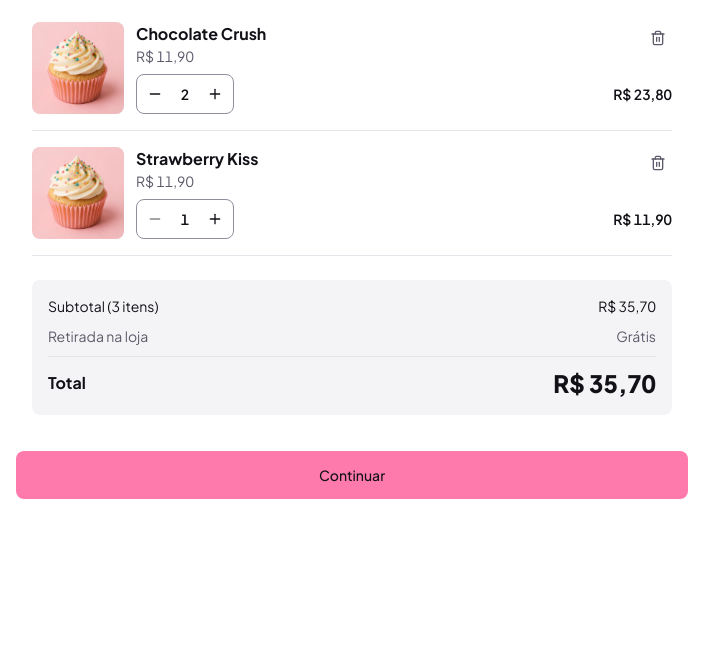
Scenario: US-09 edit cart items › AC2: remove asks for confirmation, then the item disappears and totals update
expect the heading "Chocolate Crush" is shown: met, box [136,22,266,46]
Click the button named "Remover Chocolate Crush" at (658, 38), box [636,16,680,60]
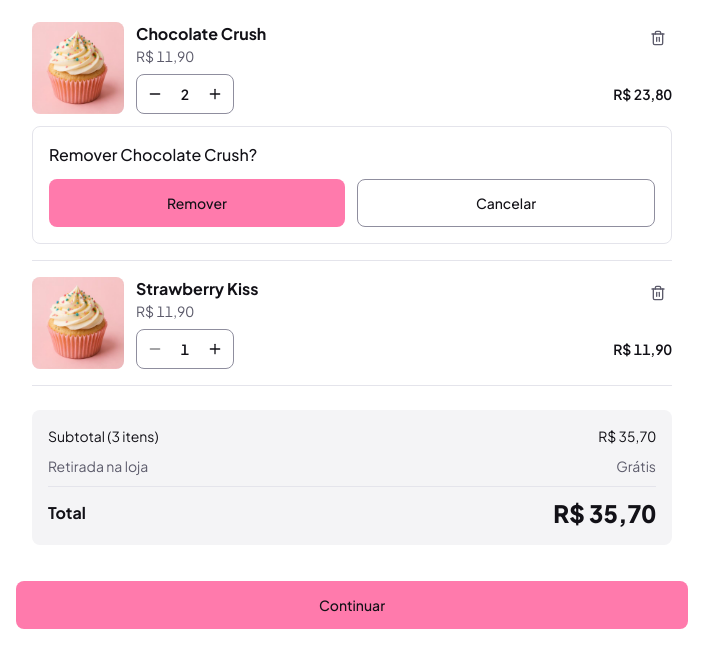
expect the text "Remover Chocolate Crush?" is shown: met, box [49,144,257,165]
Click the button "Remover" at (197, 203), box [49,179,345,227]
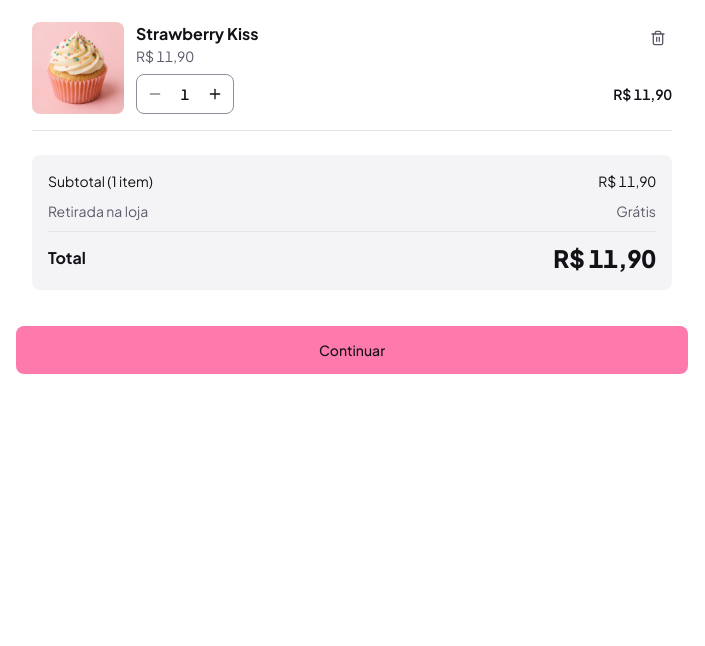
expect the heading "Chocolate Crush" is gone: met
expect the text "Subtotal (1 item)" is shown: met, box [48,171,153,191]
